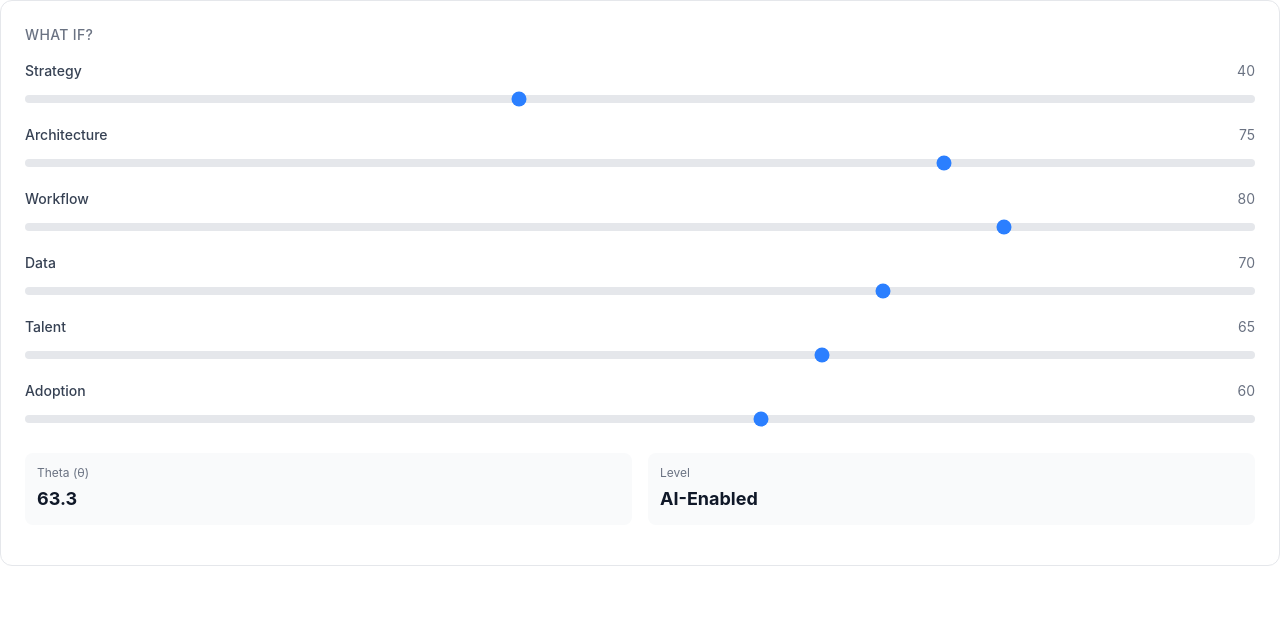
Test case: WhatIfPanel › updates theta when a slider changes
The image size is (1280, 621).
# Change strategy from 40 to 80 — weight 0.25 so theta should increase by 10
Set the slider labelled "Strategy" to "80" at (1004, 99), box [25,95,1255,103]
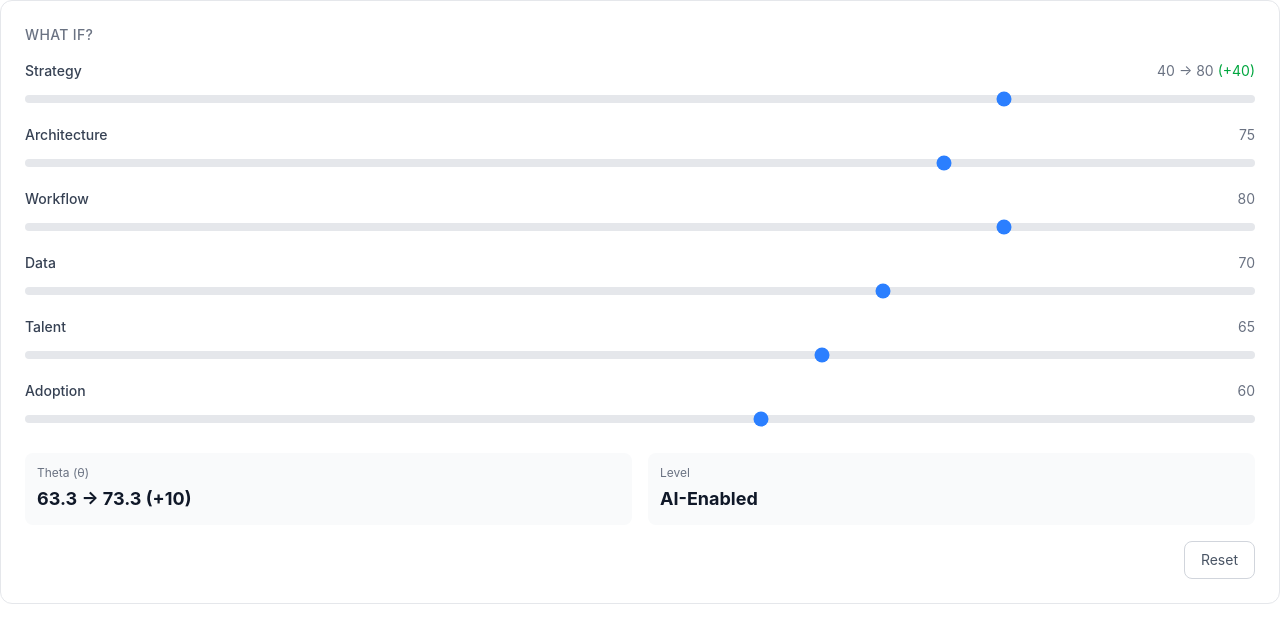
Result: the text "63.3 → 73.3 (+10)" is shown at [37,488,191,509]
